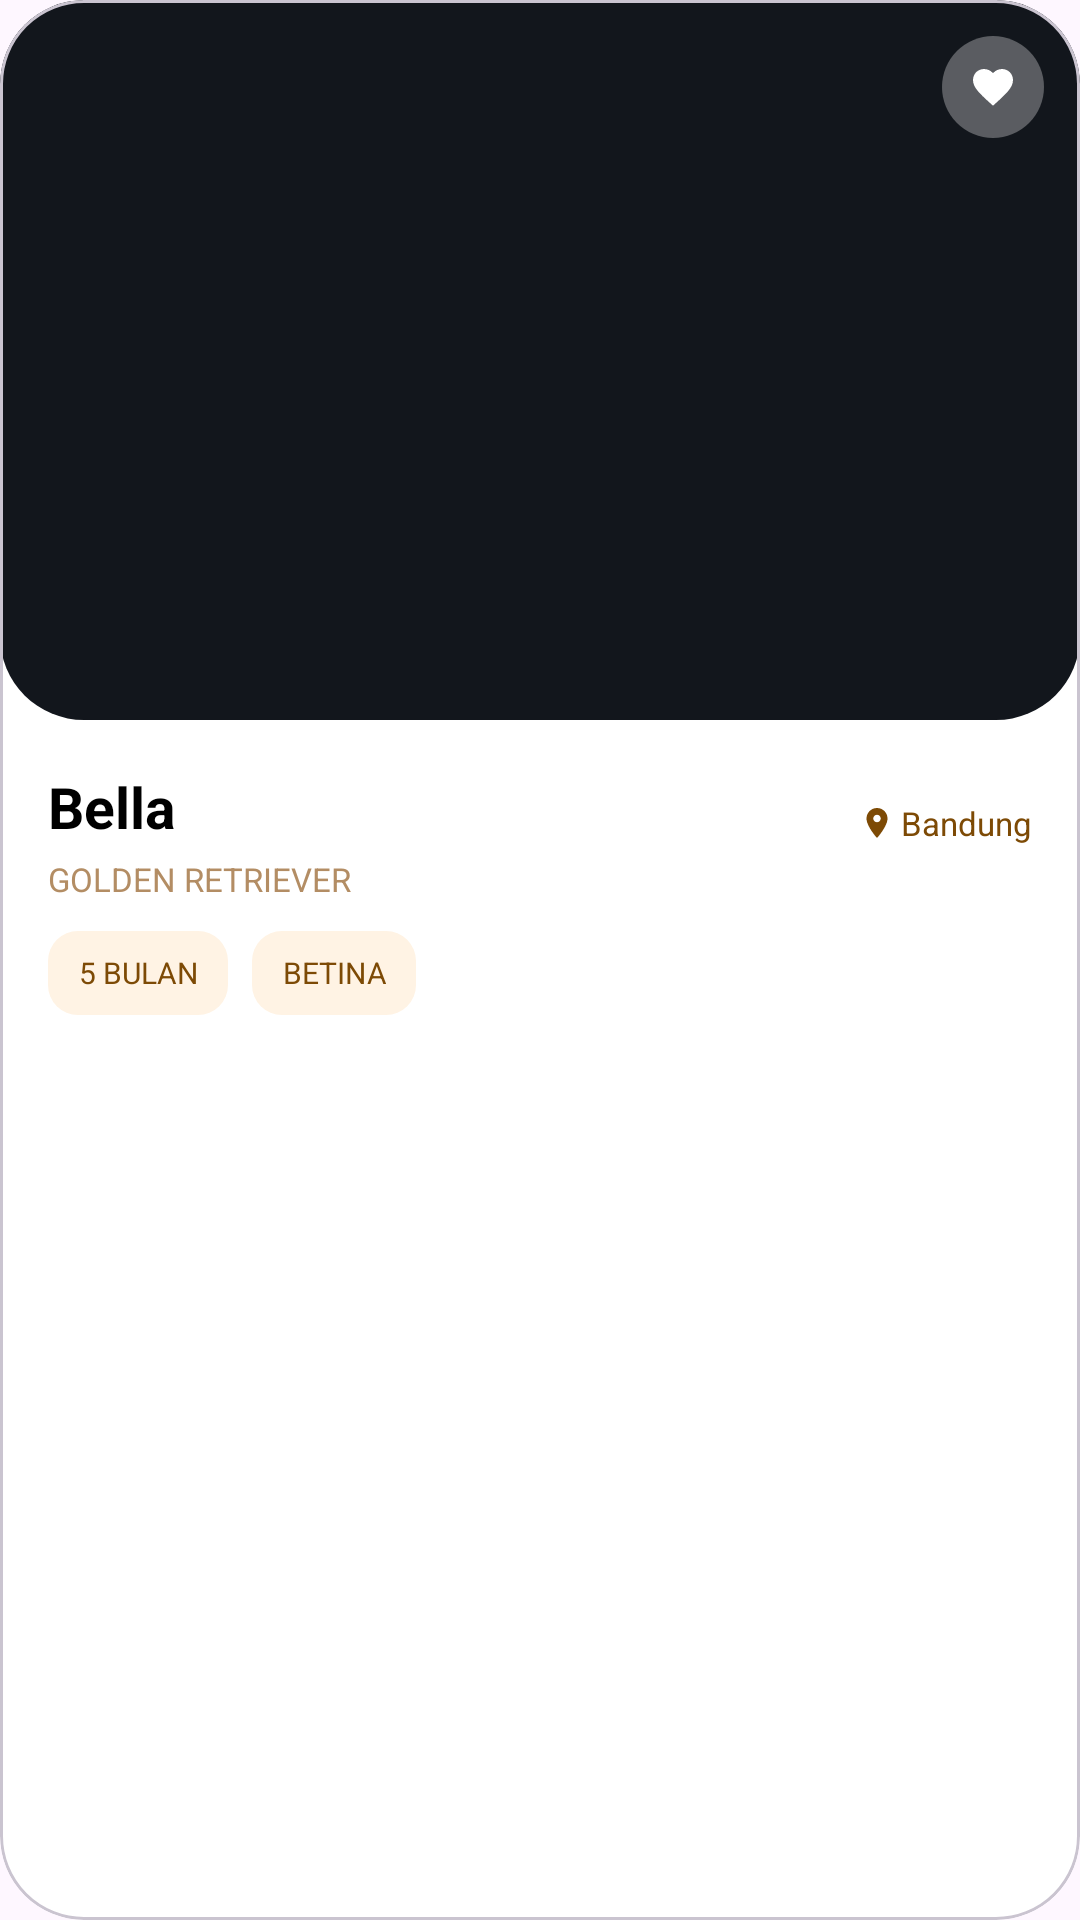

Icons on this 1080×1920 Android screen, each with its box as (x1, y1, x2, y2):
Favorit: (942, 36, 1044, 138)
Lokasi: (866, 808, 888, 838)
